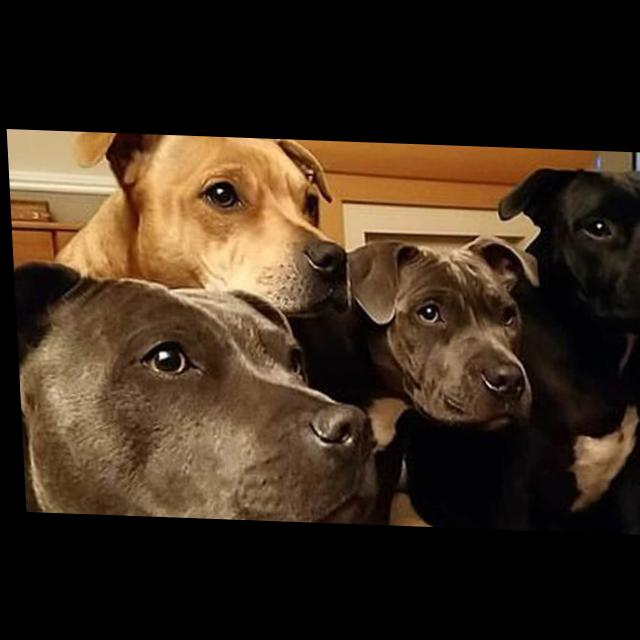am_pit_bull_terrier: (11, 258, 378, 522), (389, 157, 640, 531), (293, 224, 547, 527), (43, 130, 351, 319)
